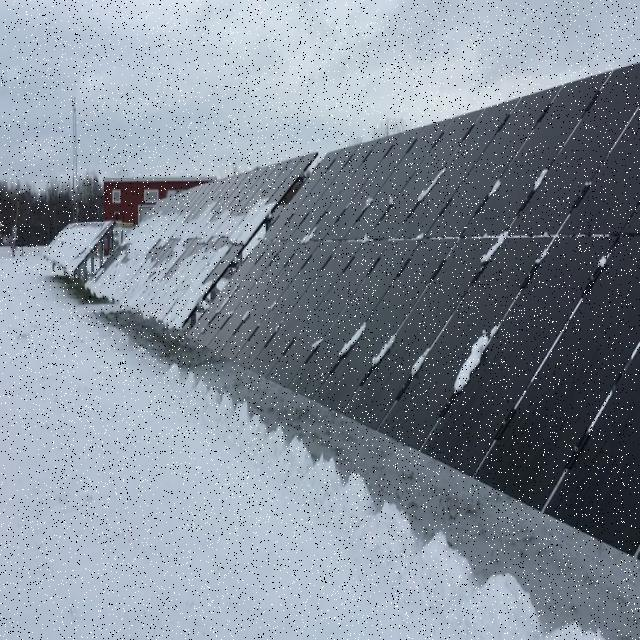snow covered: (89, 159, 314, 335)
